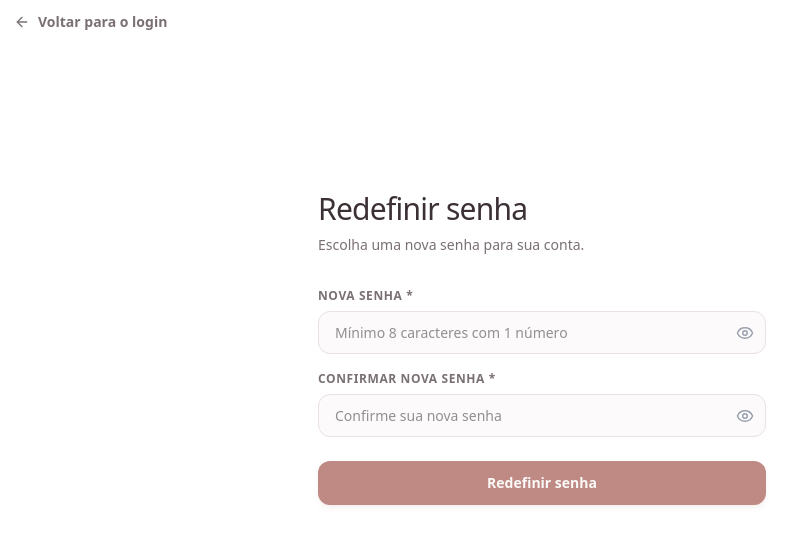
Scenario: ResetPassword › shows a validation error when passwords do not match
In the password field with placeholder "Mínimo 8 caracteres com 1 número": [542, 332] box [318,311,766,354], type "NewPass123"
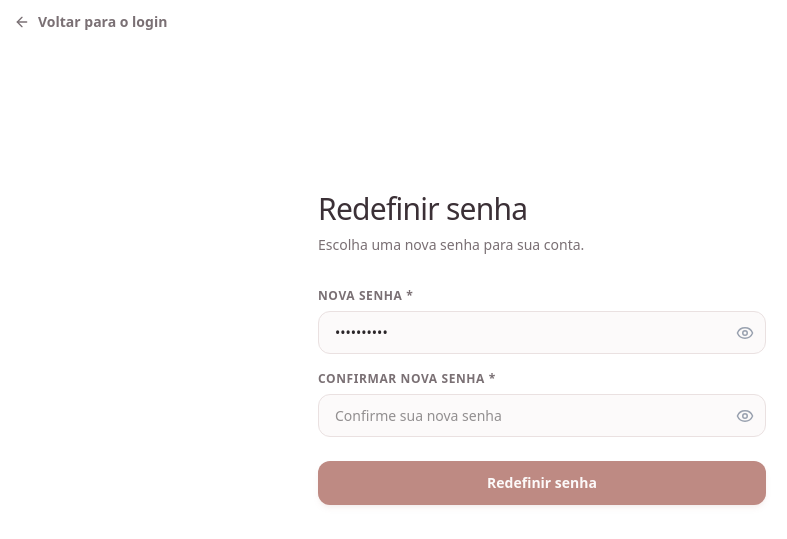
In the password field with placeholder "Confirme sua nova senha": [542, 416] box [318,394,766,437], type "DifferentPass123"
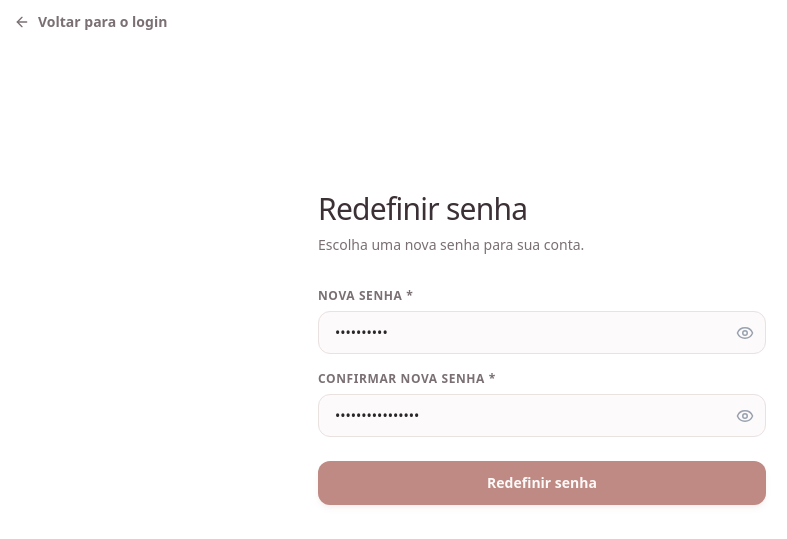
Click the button "Redefinir senha": [542, 483] box [318,461,766,505]
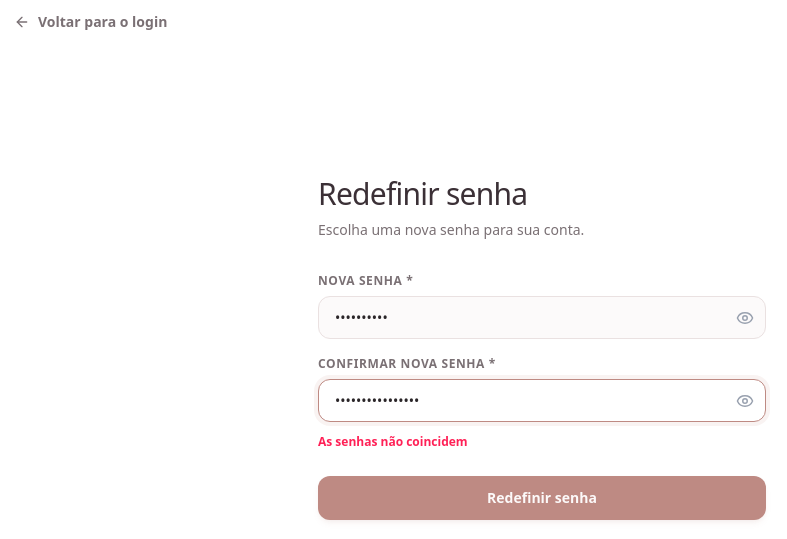
Now the text "As senhas não coincidem" is shown, box [318,433,468,450]
